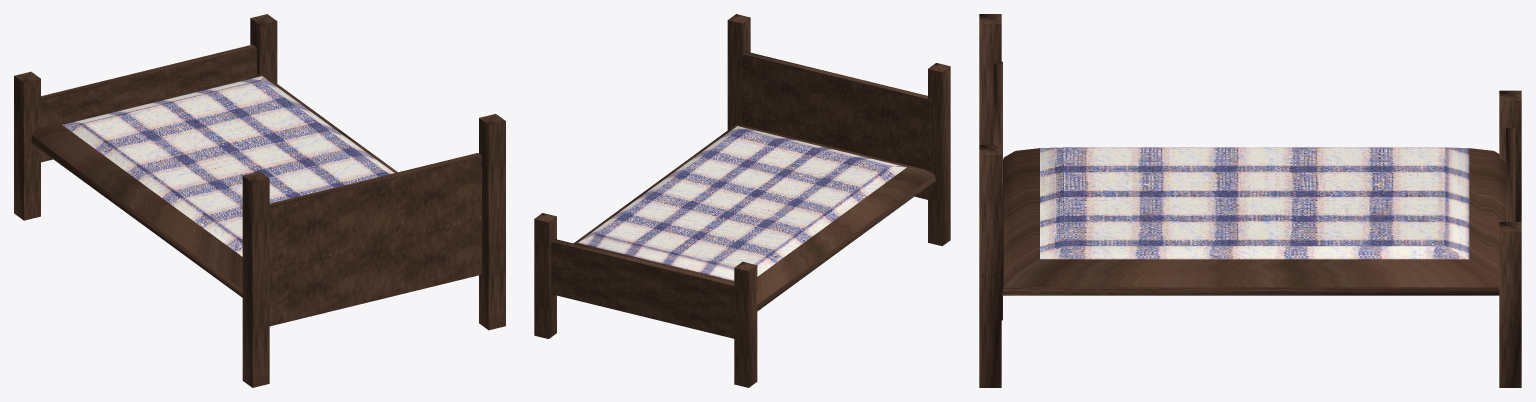
File: objects_bed_single_1.glb
3 views of the same model, side by side, from view 1: azimuth 30°, elevation 25°; view 2: azimuth 150°, elevation 25°; view 3: azimuth 270°, elevation 25° (orthographic). The views are drawn at different scales.
Visible parts, largest first — view 1: bed_single_1; view 2: bed_single_1; view 3: bed_single_1.
Boxes of the visible parts, x1=… form: bed_single_1: x1=14, y1=14, x2=505, y2=387; bed_single_1: x1=534, y1=14, x2=950, y2=387; bed_single_1: x1=979, y1=14, x2=1521, y2=387.
Size of the model in its own units: 2.74 by 2.12 by 4.47.
Materials: 2 (2 with a texture image).
